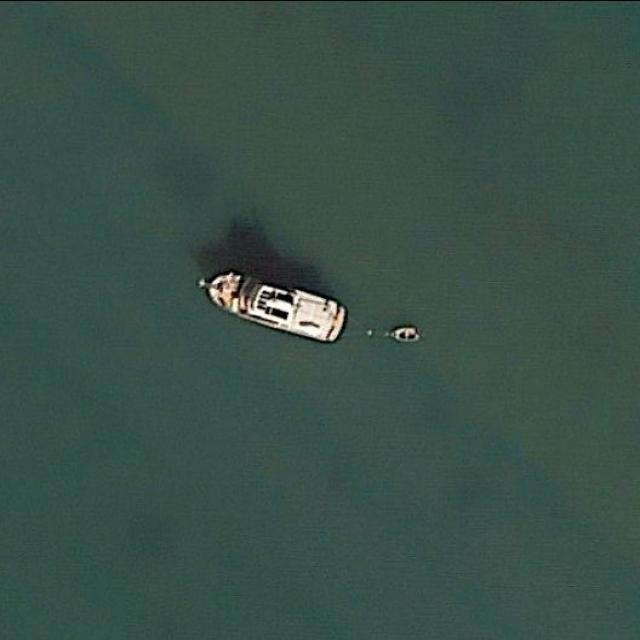ship: (195, 264, 354, 346)
